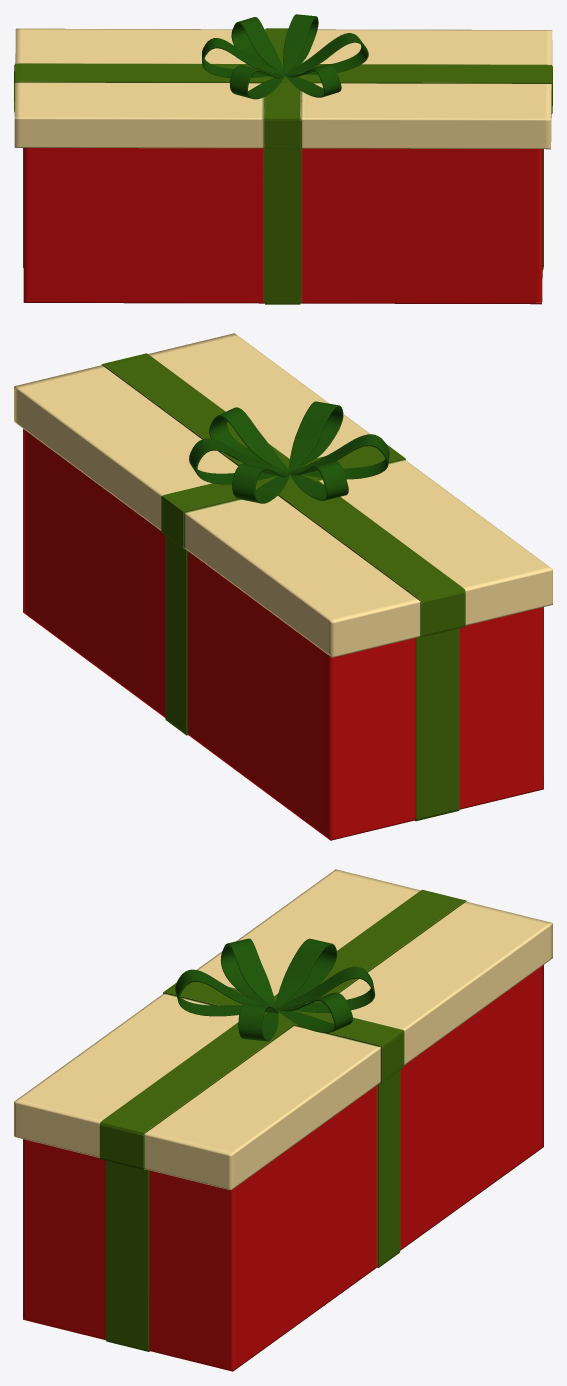
File: largepresent.glb
3 views of the same model, one above another, from view 1: azimuth 30°, elevation 25°; view 2: azimuth 150°, elevation 25°; view 3: azimuth 270°, elevation 25° (orthographic). The views are drawn at different scales.
Visible parts, largest first — view 1: Bow.003; view 2: Bow.003; view 3: Bow.003.
Boxes of the visible parts, x1=… form: Bow.003: x1=14, y1=14, x2=552, y2=304; Bow.003: x1=14, y1=333, x2=552, y2=840; Bow.003: x1=14, y1=869, x2=552, y2=1371.
Bounding box in the file's own units: 5.57 × 2.38 × 4.43.
Materials: 1 (1 with a texture image).
